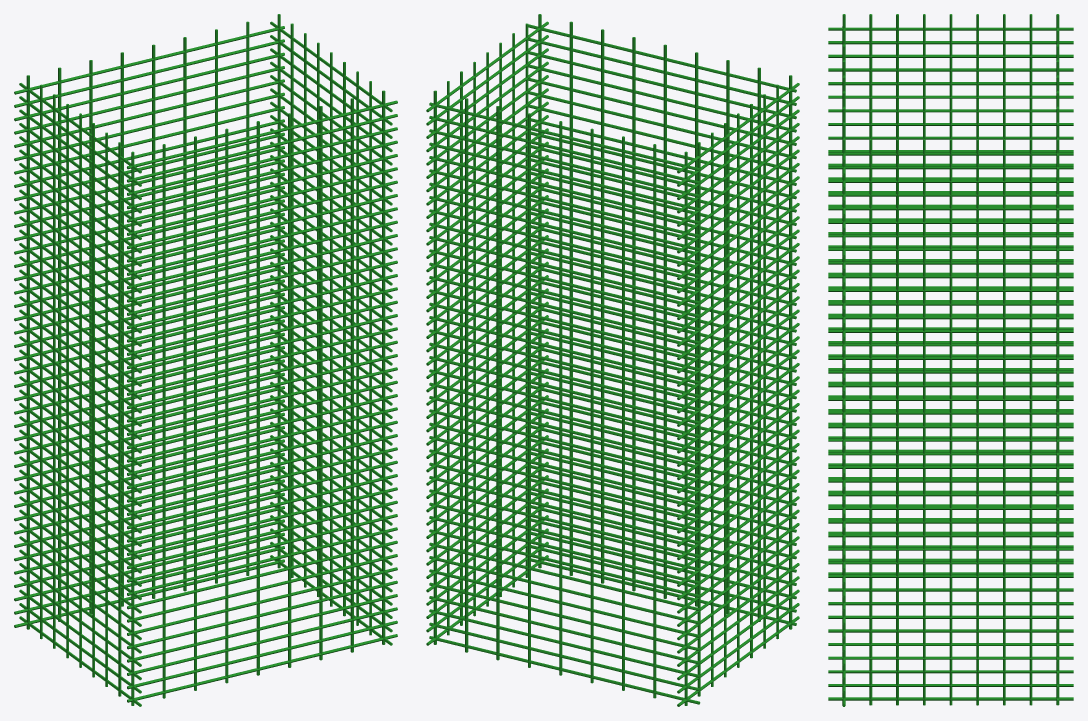
Rendered from Tower.fbx.
The picture shows the model from 3 angles, left to right: view 1: azimuth 30°, elevation 25°; view 2: azimuth 150°, elevation 25°; view 3: azimuth 270°, elevation 25°; orthographic projection. The views are drawn at different scales.
Parts seen in each view (by area): view 1: Cylinder; view 2: Cylinder; view 3: Cylinder.
Part boxes in pixels (x1=…): Cylinder: x1=14, y1=14, x2=397, y2=706; Cylinder: x1=426, y1=14, x2=799, y2=706; Cylinder: x1=828, y1=14, x2=1073, y2=706.
Size of the model in its own units: 10260 by 19535 by 7694.
